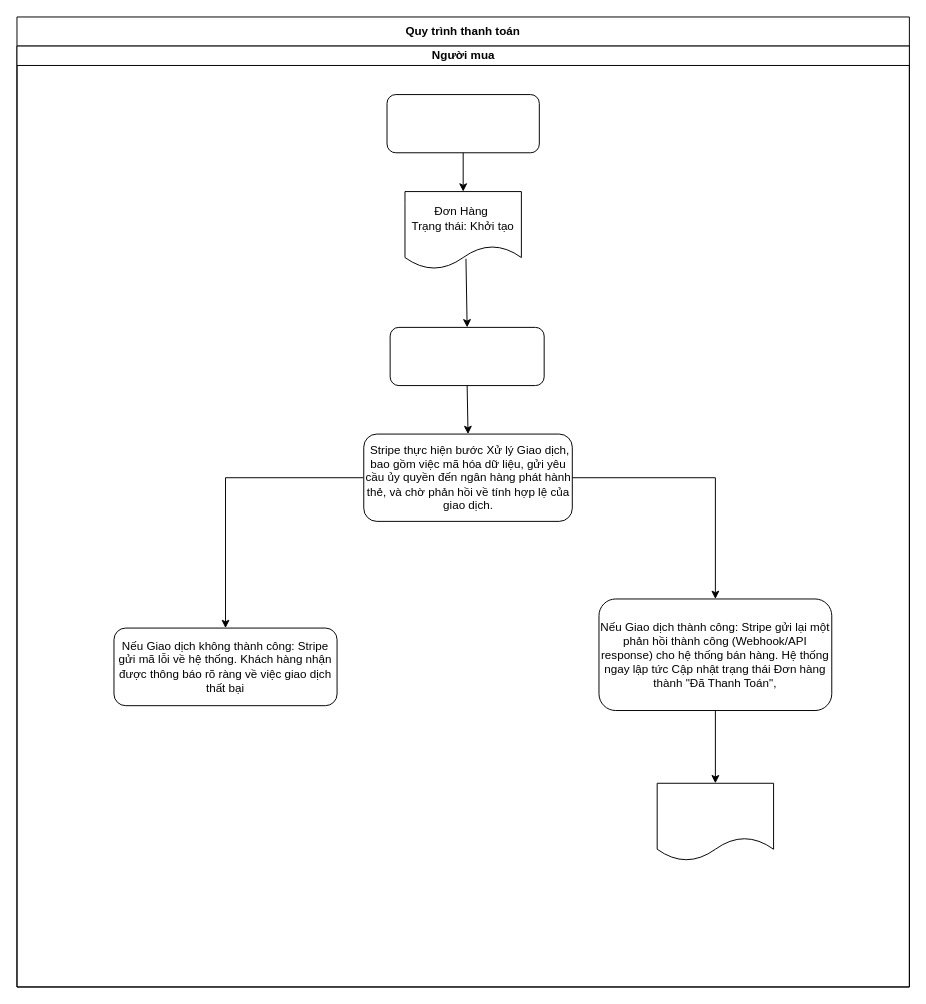
The diagram is 926 pixels wide and 1004 high, and some of its shapes have lost their labels. The centre of each missing label's shape, as x and y in pixels:
"Chọn thanh toán" belongs at point (462, 123).
"Nhập thông tin thẻ hoặc thông tin tài khoản ngân hàng" belongs at point (466, 356).
"Đơn hàng Trạng thái: Thanh toán thành công" belongs at point (715, 821).
